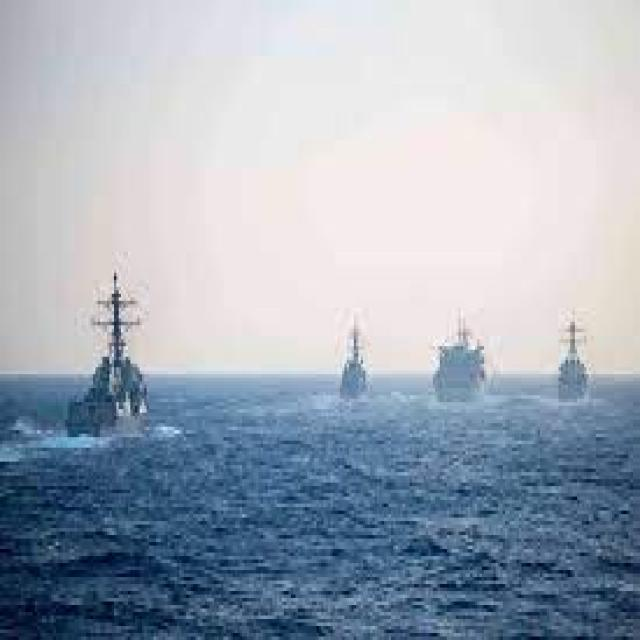navalvessels: (56, 274, 146, 442), (426, 291, 488, 398), (550, 312, 596, 400), (326, 312, 367, 410)
